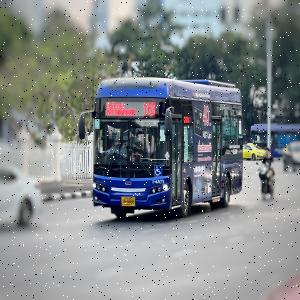Bus Line Number: (142, 99, 157, 118)
Bus Side Number: (151, 178, 165, 185)
Destination Sign: (104, 99, 137, 119)
TSB-Bus: (79, 77, 244, 219)
